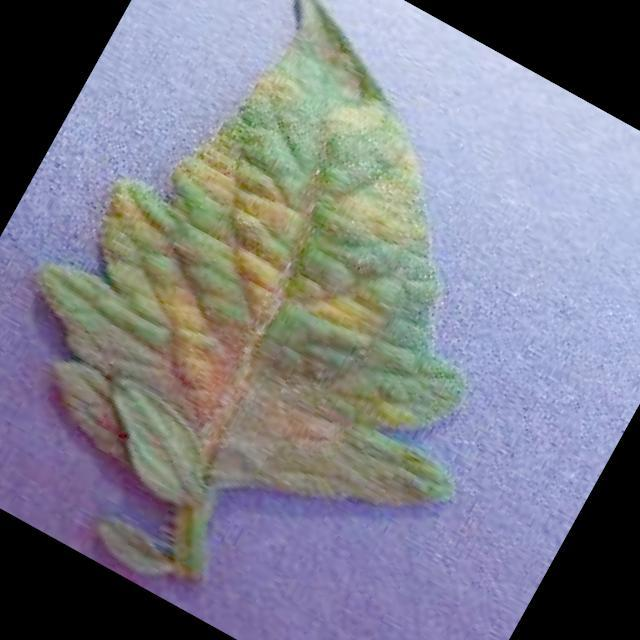Tomato mold leaf: (0, 0, 630, 617)
